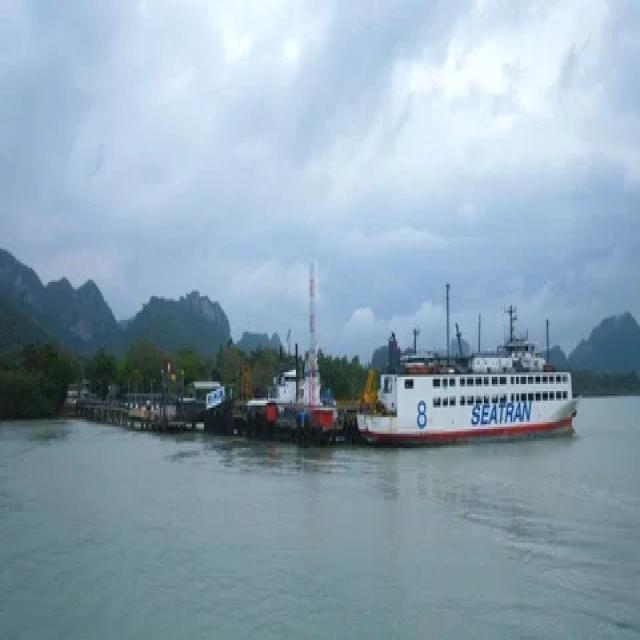passenger ship: (371, 312, 610, 444)
